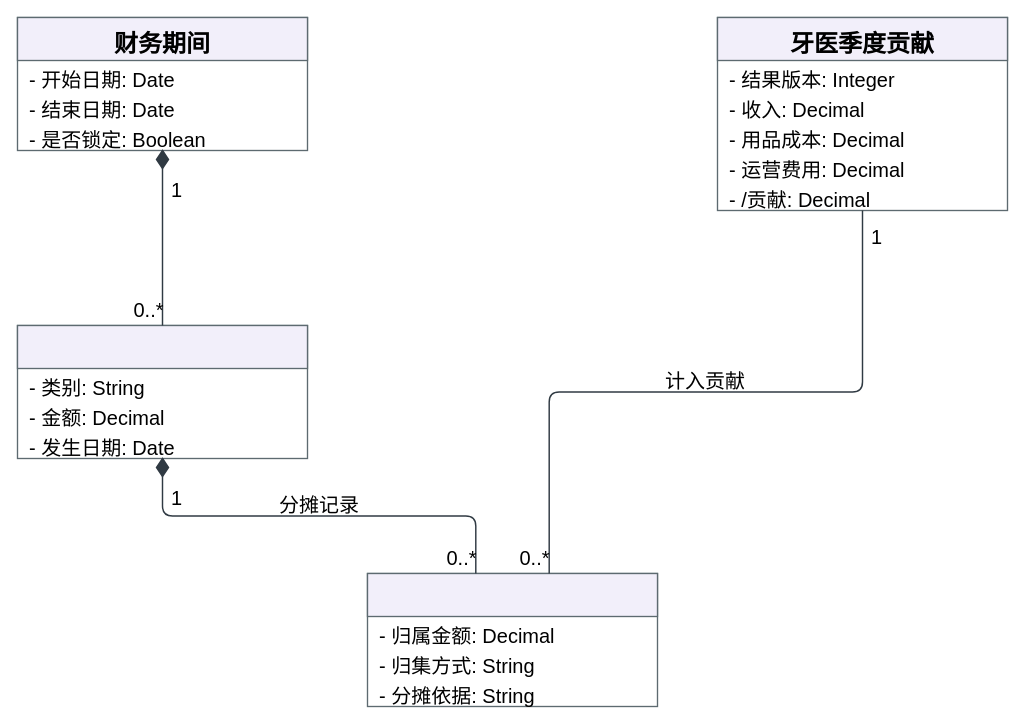
Some shapes in this 1026 by 726 pixel diagram are drawn without their labels. Each missing label, with the centre of its shape:
"费用归属" belongs at (512,594).
"运营费用" belongs at (162,346).
